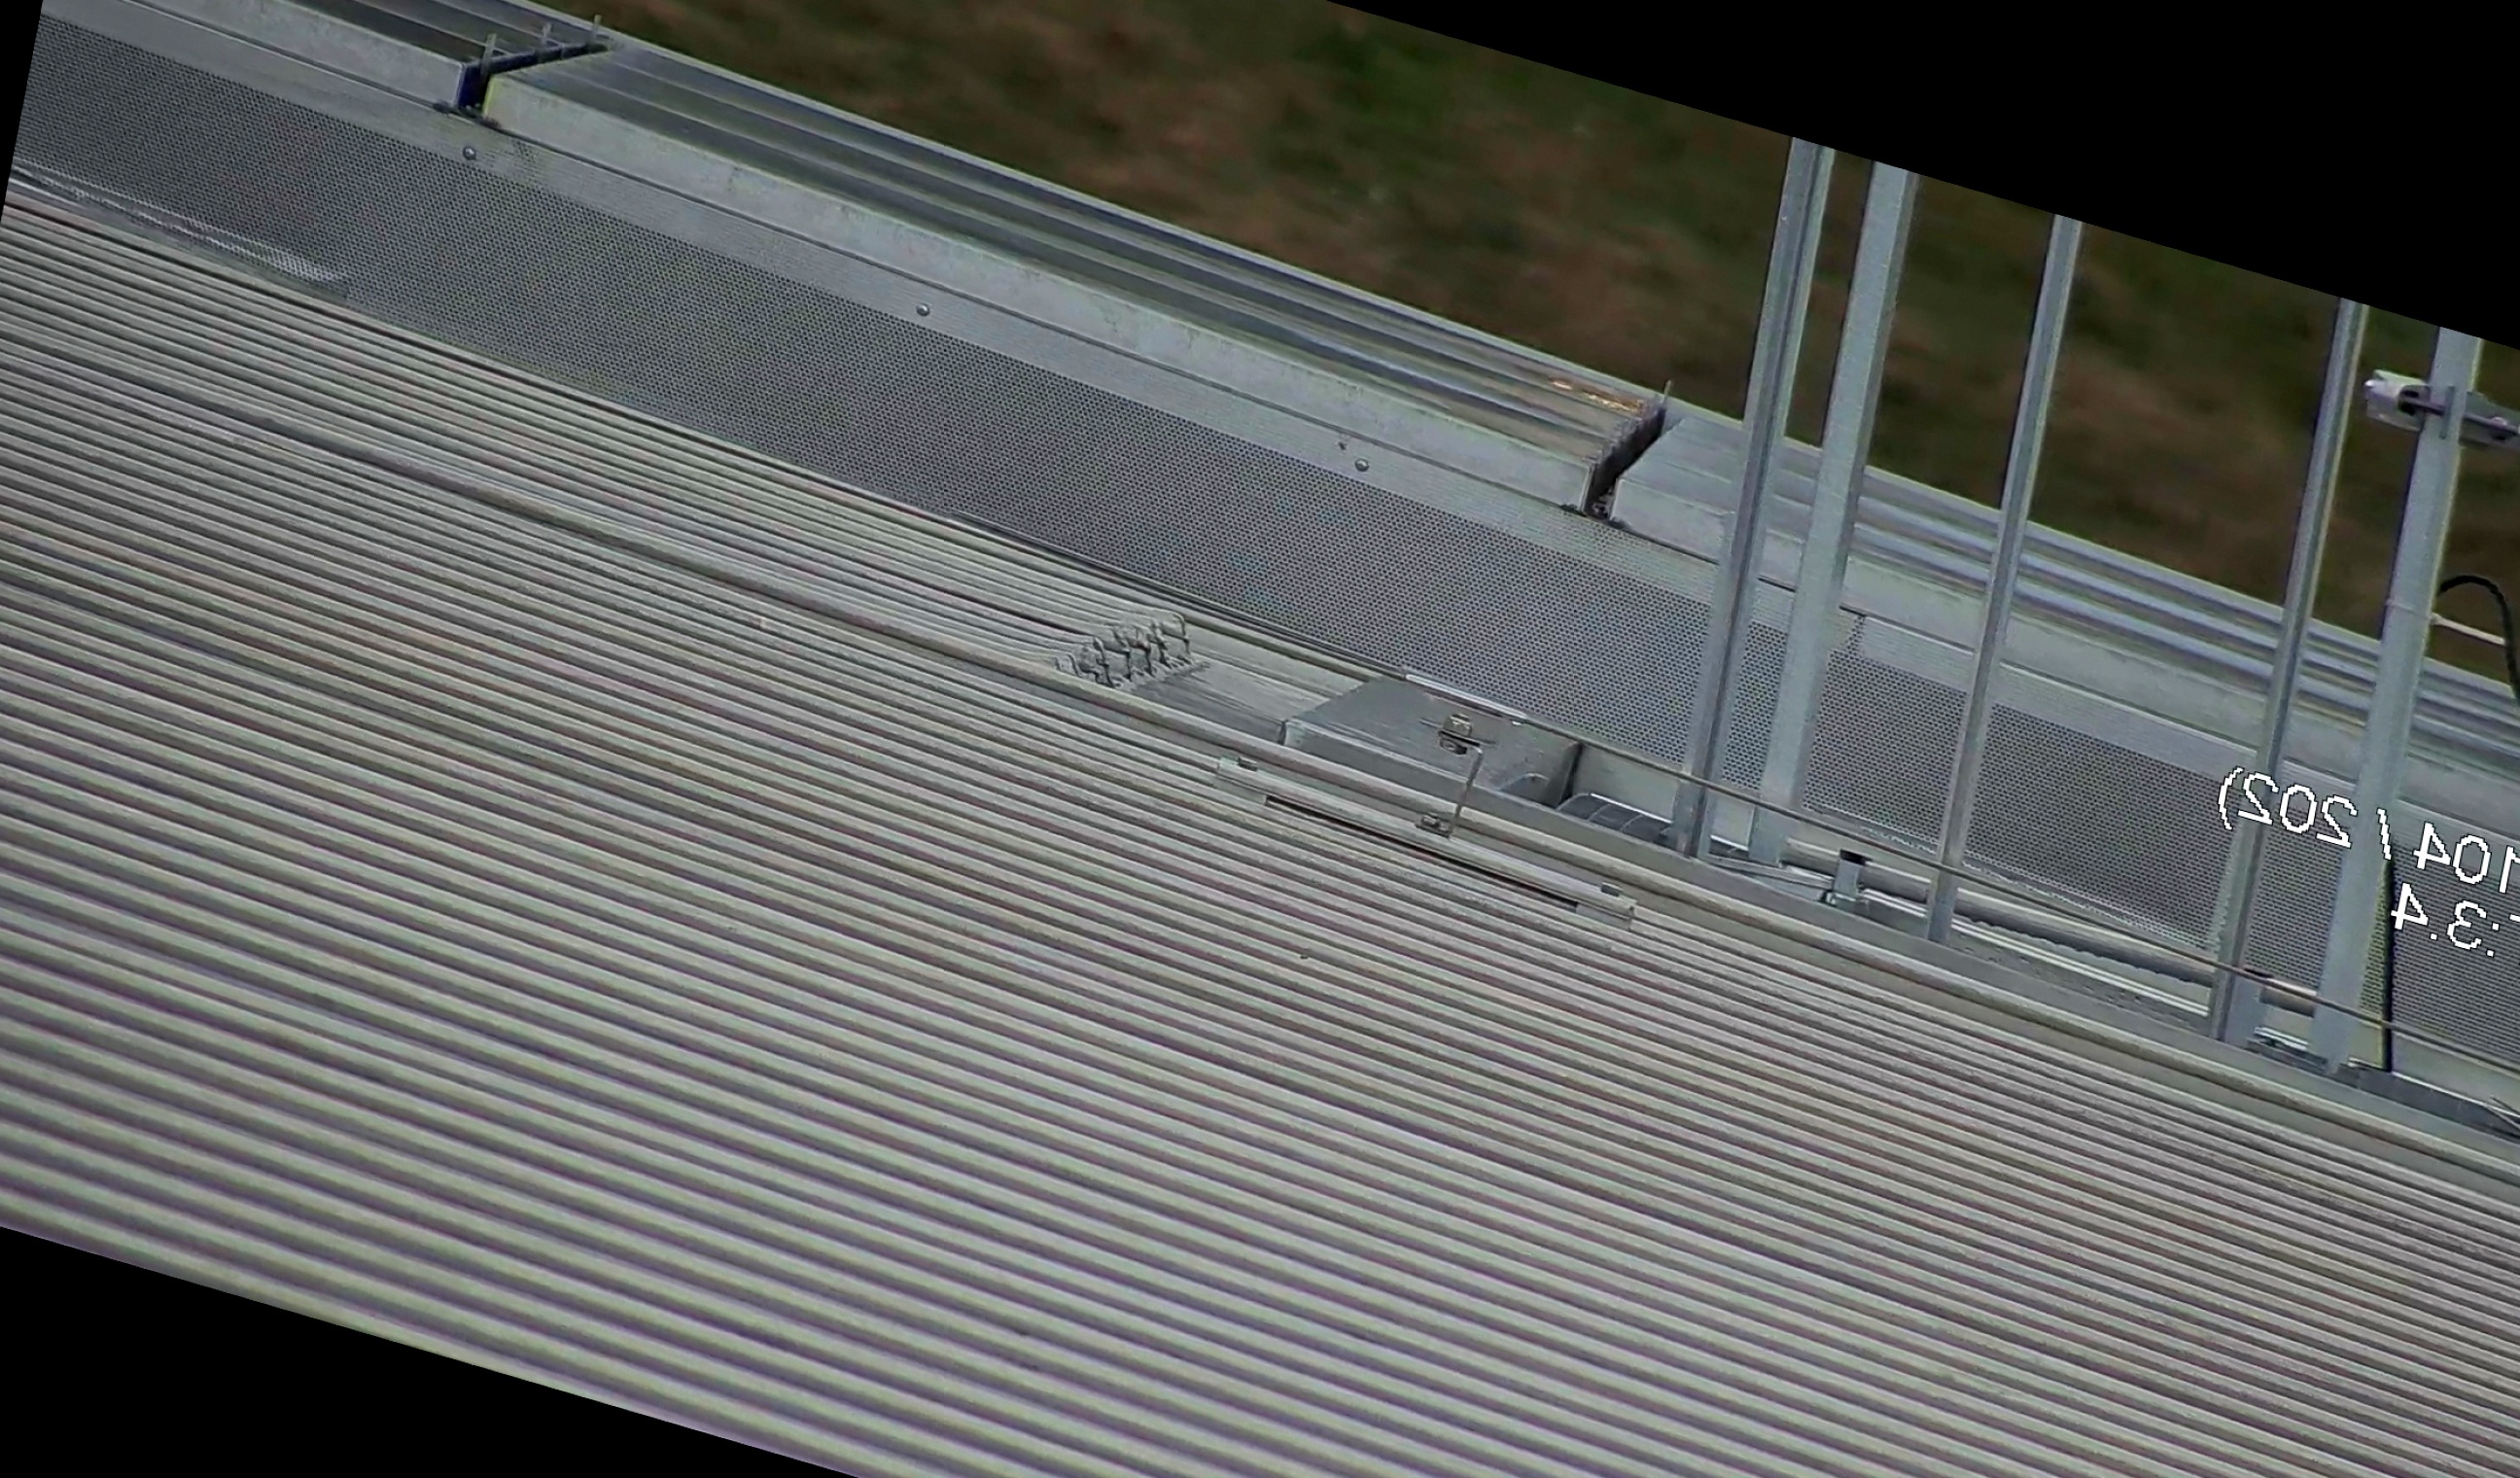Other: (1555, 359, 1699, 542)
